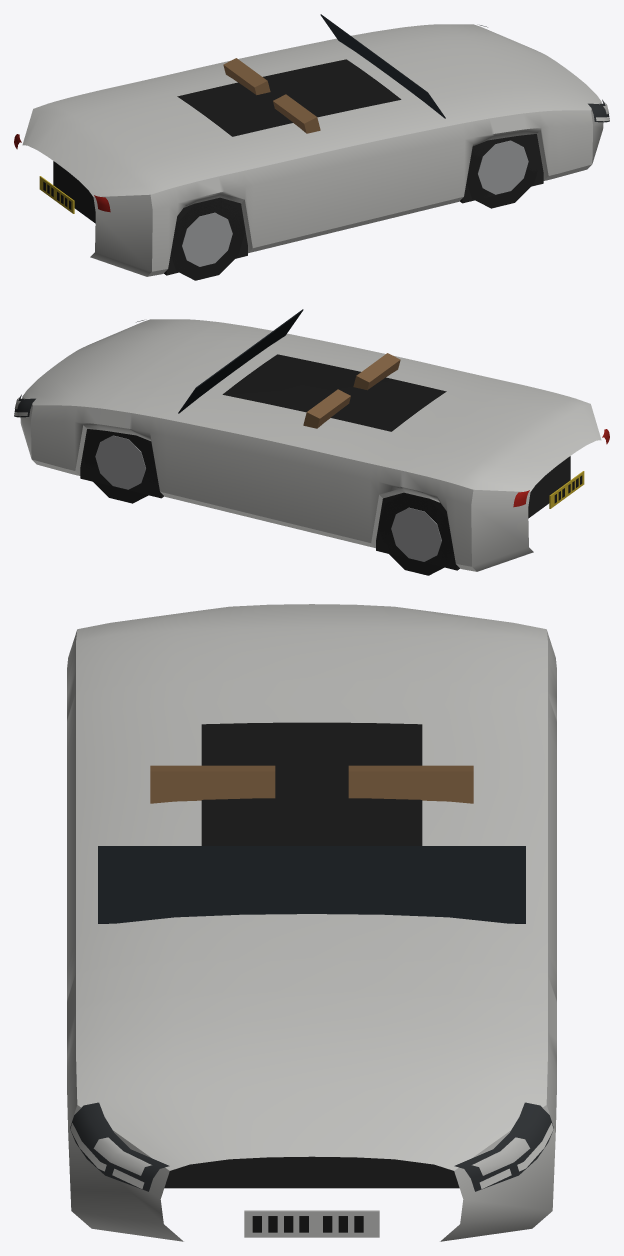
Rendered from SM_Prop_parked_car_112_LOD1.glb.
3 renders of one model, top to bottom at view 1: azimuth 30°, elevation 25°; view 2: azimuth 150°, elevation 25°; view 3: azimuth 270°, elevation 25°, orthographic. The views are drawn at different scales.
Visible parts, largest first — view 1: SM_Prop_parked_car_112_LOD1; view 2: SM_Prop_parked_car_112_LOD1; view 3: SM_Prop_parked_car_112_LOD1.
Boxes of the visible parts, x1,y1,x2,y2 form: SM_Prop_parked_car_112_LOD1: (14,14,609,280); SM_Prop_parked_car_112_LOD1: (14,309,609,575); SM_Prop_parked_car_112_LOD1: (67,604,556,1241).
Size of the model in its own units: 4.53 by 1.09 by 1.88.
